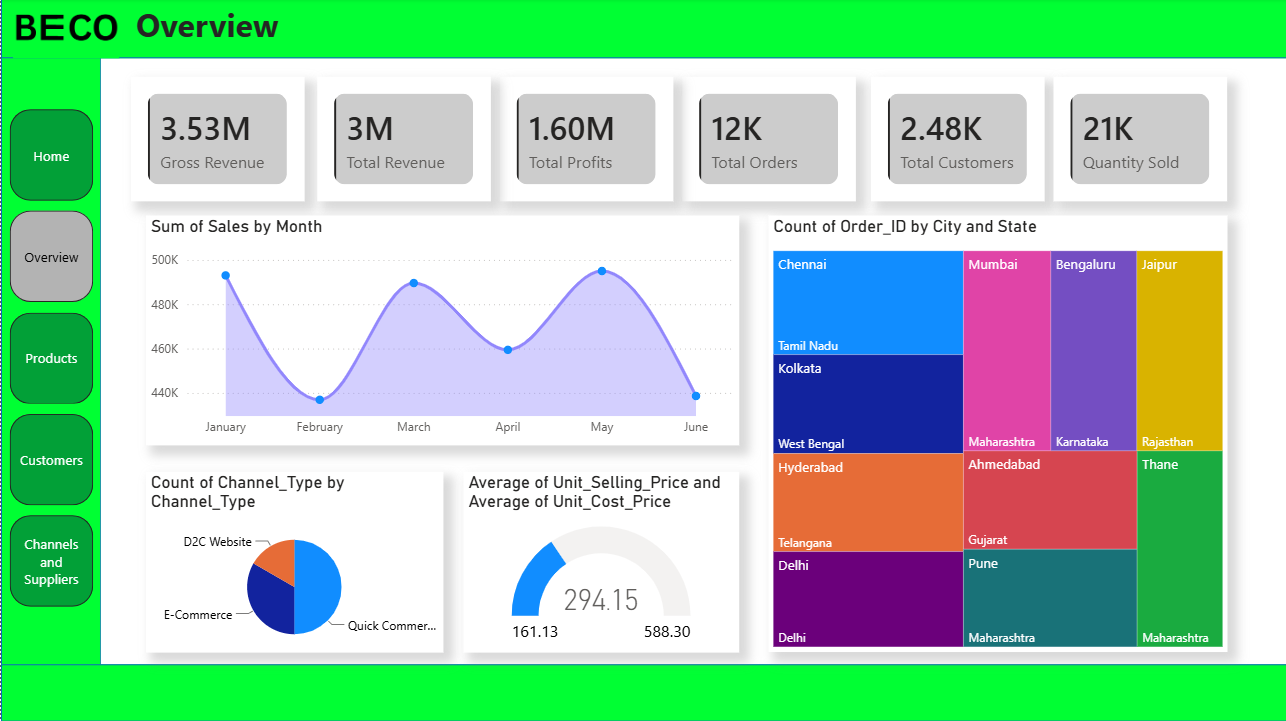

The dashboard page shown, as its layout file describes it:
{"tool":"powerbi","page":{"name":"Overview","canvas":[1280,720],"ordinal":1},"visuals":[{"type":"shape","box":[0,0,75.5,720.4],"z":0},{"type":"shape","box":[0,0,1280,60],"z":1000},{"type":"shape","box":[0,662.9,1280,57.1],"z":2000},{"type":"cardVisual","fields":{"Data":["Sum(Fact_Sales.Unit_Selling_Price)"]},"box":[128.9,78.1,172.9,124.3],"z":3000},{"type":"cardVisual","fields":{"Data":["CountNonNull(Fact_Sales.Customer_ID)"]},"box":[678,78.4,172.9,124.3],"z":4000},{"type":"cardVisual","fields":{"Data":["Count(Fact_Sales.Customer_ID)"]},"box":[865.8,78.4,172.9,124.3],"z":5000},{"type":"cardVisual","fields":{"Data":["Sum(Fact_Sales.Quantity)"]},"box":[1047.4,78.4,172.9,124.3],"z":6000},{"type":"cardVisual","fields":{"Data":["Table.Total Profits"]},"box":[496.3,78.4,172.9,124.3],"z":7000},{"type":"treemap","fields":{"Details":["Dim_Customers.State"],"Group":["Dim_Customers.City"],"Values":["CountNonNull(Fact_Sales.Order_ID)"]},"box":[764,216.6,457.1,434.3],"z":8000},{"type":"cardVisual","fields":{"Data":["Sum(Fact_Sales.Sales)"]},"box":[314.7,78.4,172.9,124.3],"z":9000},{"type":"lineChart","fields":{"Category":["Fact_Sales.Order_Date.Variation.Date Hierarchy.Month"],"Y":["Sum(Fact_Sales.Sales)"]},"box":[144,216.6,590,228.6],"z":10000},{"type":"pieChart","fields":{"Category":["Dim_Channels.Channel_Type"],"Y":["CountNonNull(Dim_Channels.Channel_Type)"]},"box":[144,470.9,295.7,180],"z":11000},{"type":"gauge","fields":{"MinValue":["Avg(Fact_Sales.Unit_Cost_Price)"],"Y":["Avg(Fact_Sales.Unit_Selling_Price)"]},"box":[459.7,470.9,274.3,180],"z":12000},{"type":"pageNavigator","box":[5,110.7,64.7,497.6],"z":13000},{"type":"image","box":[0,0,294.8,59.7],"z":14000}]}

Visuals, with their boxes in screenshot pixels (x1, y1, x2, y2), scaled from the page's 1280x720 canvas onto the 1286x721 screenshot:
shape: [0, 0, 76, 720]
shape: [0, 0, 1285, 60]
shape: [0, 664, 1285, 720]
cardVisual - Sum(Fact_Sales.Unit_Selling_Price): [130, 78, 303, 203]
cardVisual - CountNonNull(Fact_Sales.Customer_ID): [681, 79, 855, 203]
cardVisual - Count(Fact_Sales.Customer_ID): [870, 79, 1044, 203]
cardVisual - Sum(Fact_Sales.Quantity): [1052, 79, 1226, 203]
cardVisual - Table.Total Profits: [499, 79, 672, 203]
treemap - Dim_Customers.State x Dim_Customers.City: [768, 217, 1227, 652]
cardVisual - Sum(Fact_Sales.Sales): [316, 79, 490, 203]
lineChart - Fact_Sales.Order_Date.Variation.Date Hierarchy.Month x Sum(Fact_Sales.Sales): [145, 217, 737, 446]
pieChart - Dim_Channels.Channel_Type x CountNonNull(Dim_Channels.Channel_Type): [145, 472, 442, 652]
gauge - Avg(Fact_Sales.Unit_Cost_Price) x Avg(Fact_Sales.Unit_Selling_Price): [462, 472, 737, 652]
pageNavigator: [5, 111, 70, 609]
image: [0, 0, 296, 60]
